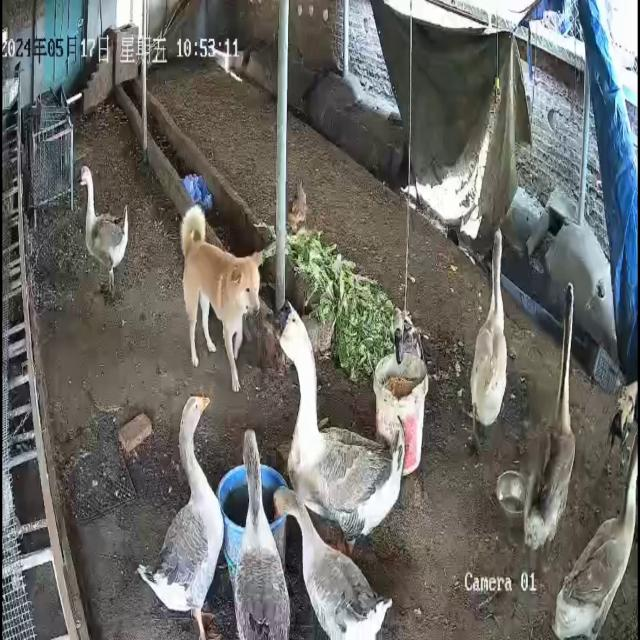dog: (181, 205, 264, 394)
